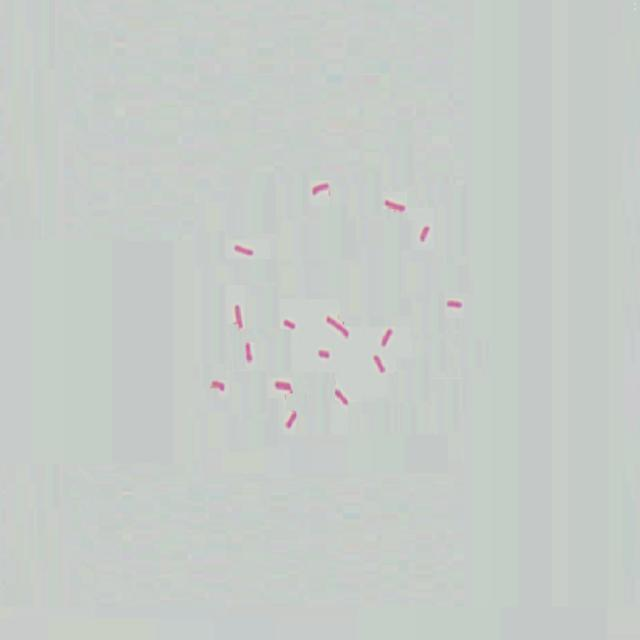E-coli: (324, 309, 351, 341), (381, 193, 408, 216), (230, 299, 249, 331), (370, 353, 390, 380), (310, 175, 330, 201), (331, 383, 350, 410), (239, 337, 258, 364), (272, 374, 294, 395), (279, 410, 301, 431), (443, 295, 466, 314), (231, 241, 255, 259), (279, 313, 300, 332), (416, 221, 434, 243), (379, 323, 395, 347), (209, 376, 230, 393), (316, 346, 334, 361)
